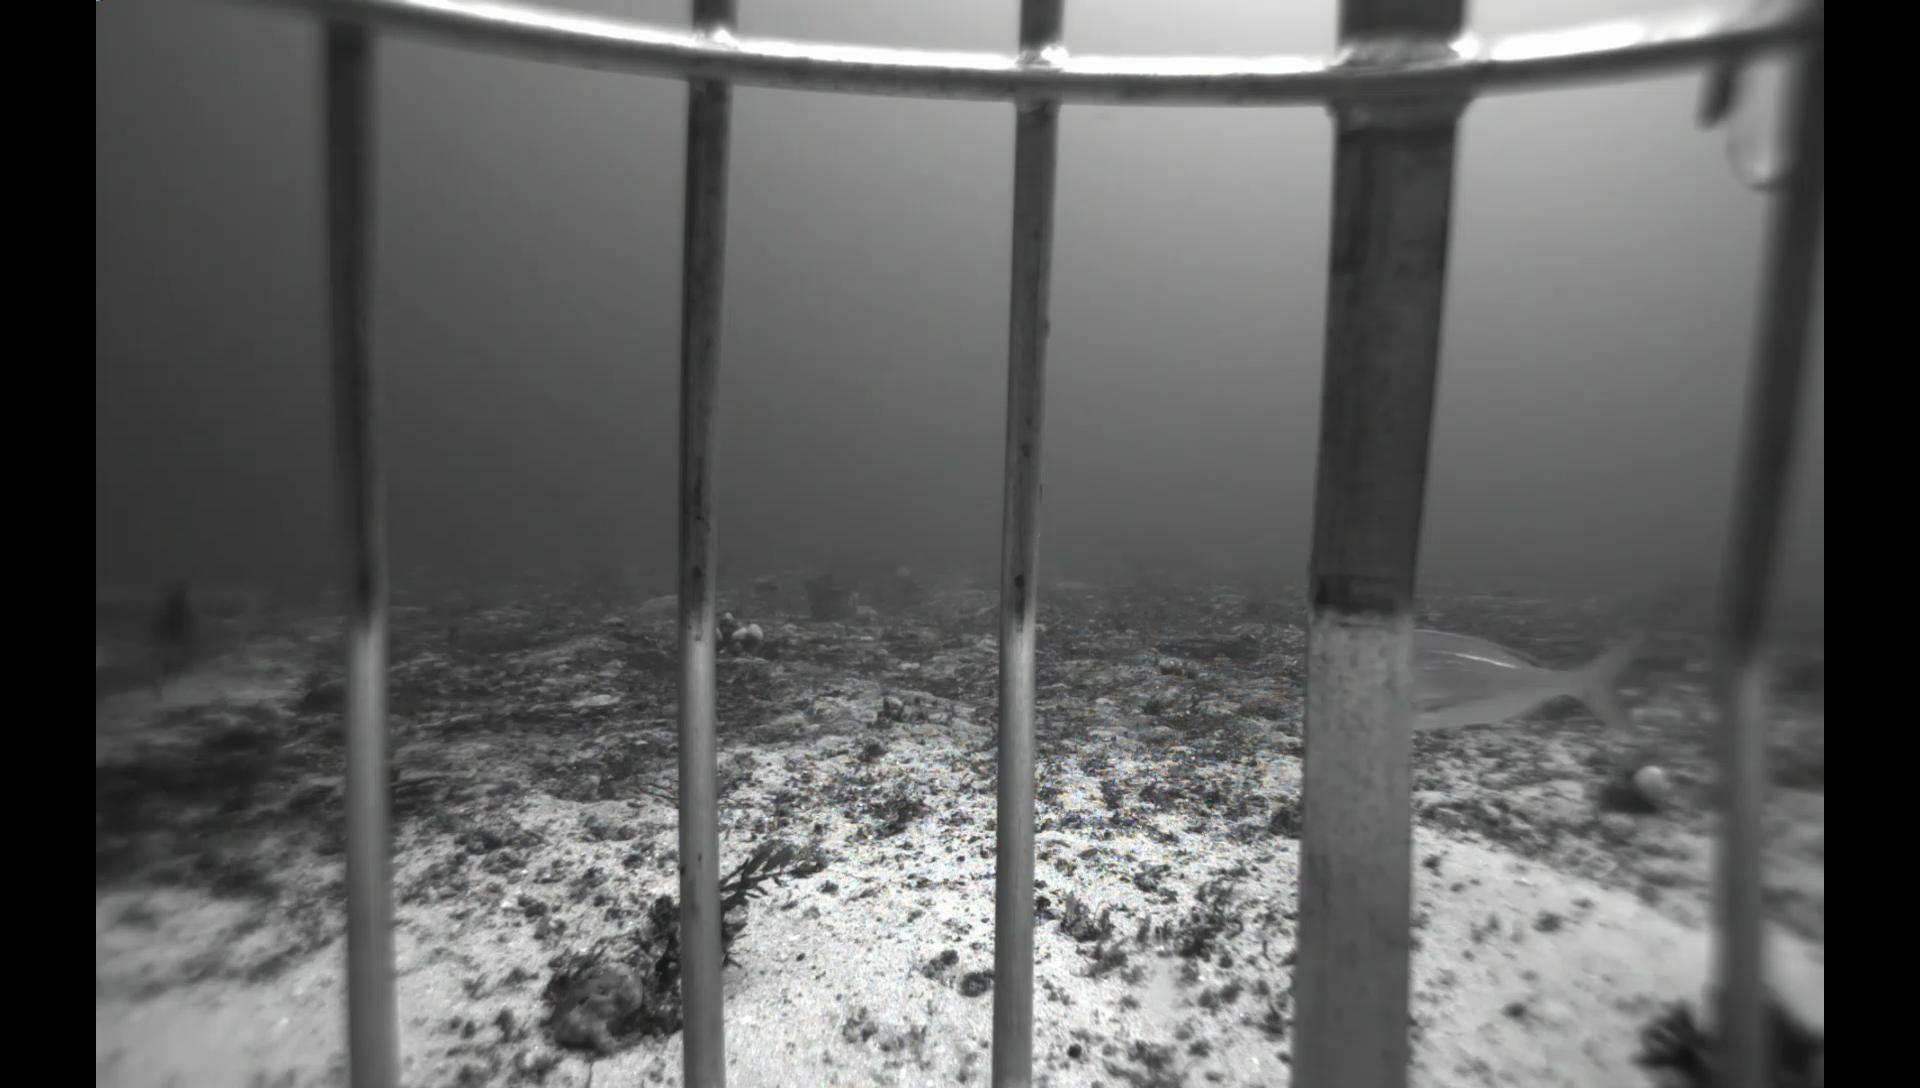CHAETODONOCELLATUS-170260307: (891, 564, 914, 580)
EPINEPHELUSMORIO-170021211: (131, 572, 196, 715)
PAGRUSPAGRUS-170212302: (1406, 620, 1664, 749)
PRISTIGENYSALTA-170050401: (289, 675, 347, 721)
